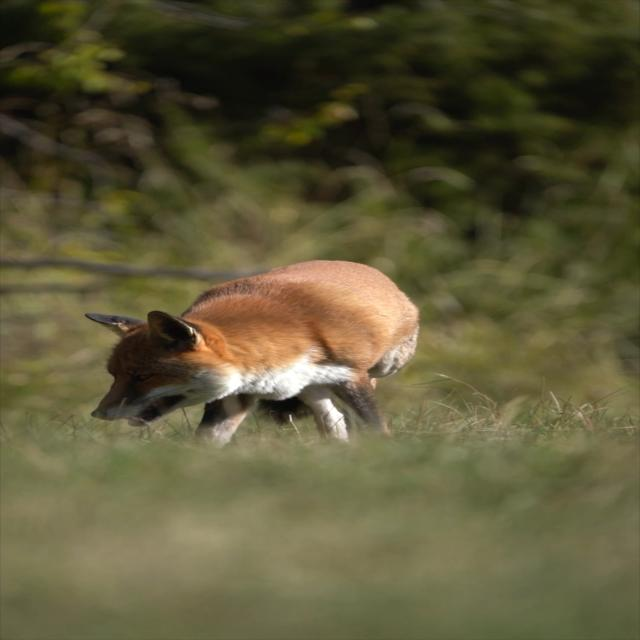fox: (59, 259, 450, 463)
